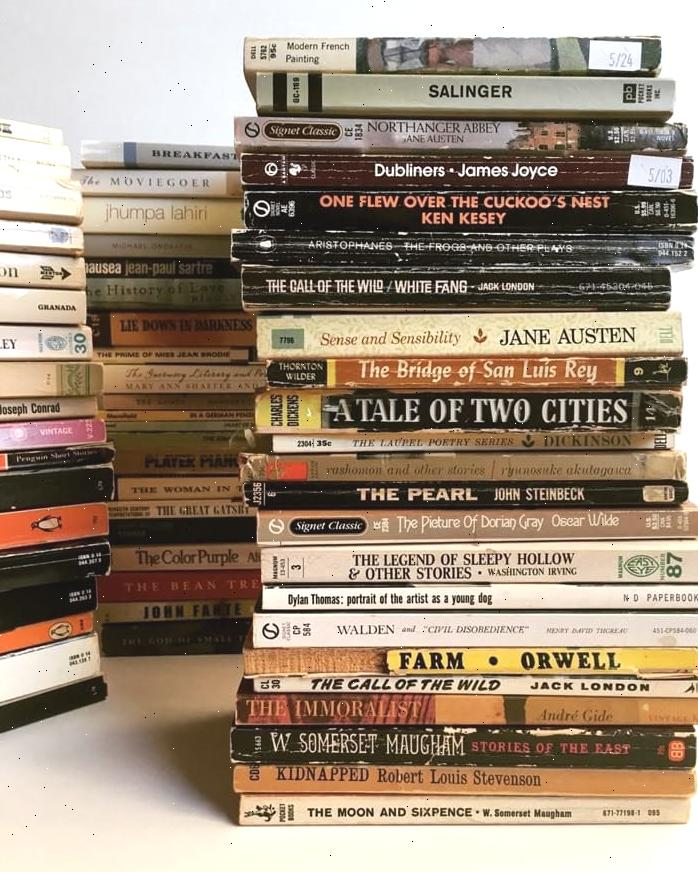book: (251, 312, 685, 358), (231, 726, 696, 767), (251, 502, 698, 544), (250, 388, 683, 430), (237, 153, 691, 193), (246, 35, 661, 78), (246, 609, 698, 648), (255, 74, 674, 116), (235, 195, 695, 233), (239, 641, 698, 679), (251, 546, 698, 584), (245, 116, 682, 154), (242, 690, 698, 725), (254, 355, 684, 392), (227, 760, 698, 793), (254, 578, 698, 613), (244, 451, 687, 486), (229, 797, 695, 826), (247, 428, 680, 454), (81, 198, 244, 234), (87, 276, 247, 311), (92, 314, 259, 345), (105, 543, 263, 572), (102, 365, 269, 391), (85, 235, 245, 262), (76, 170, 242, 196), (0, 283, 93, 328), (0, 179, 85, 228), (103, 502, 259, 524), (85, 258, 243, 279), (98, 393, 259, 413), (94, 346, 261, 364)
